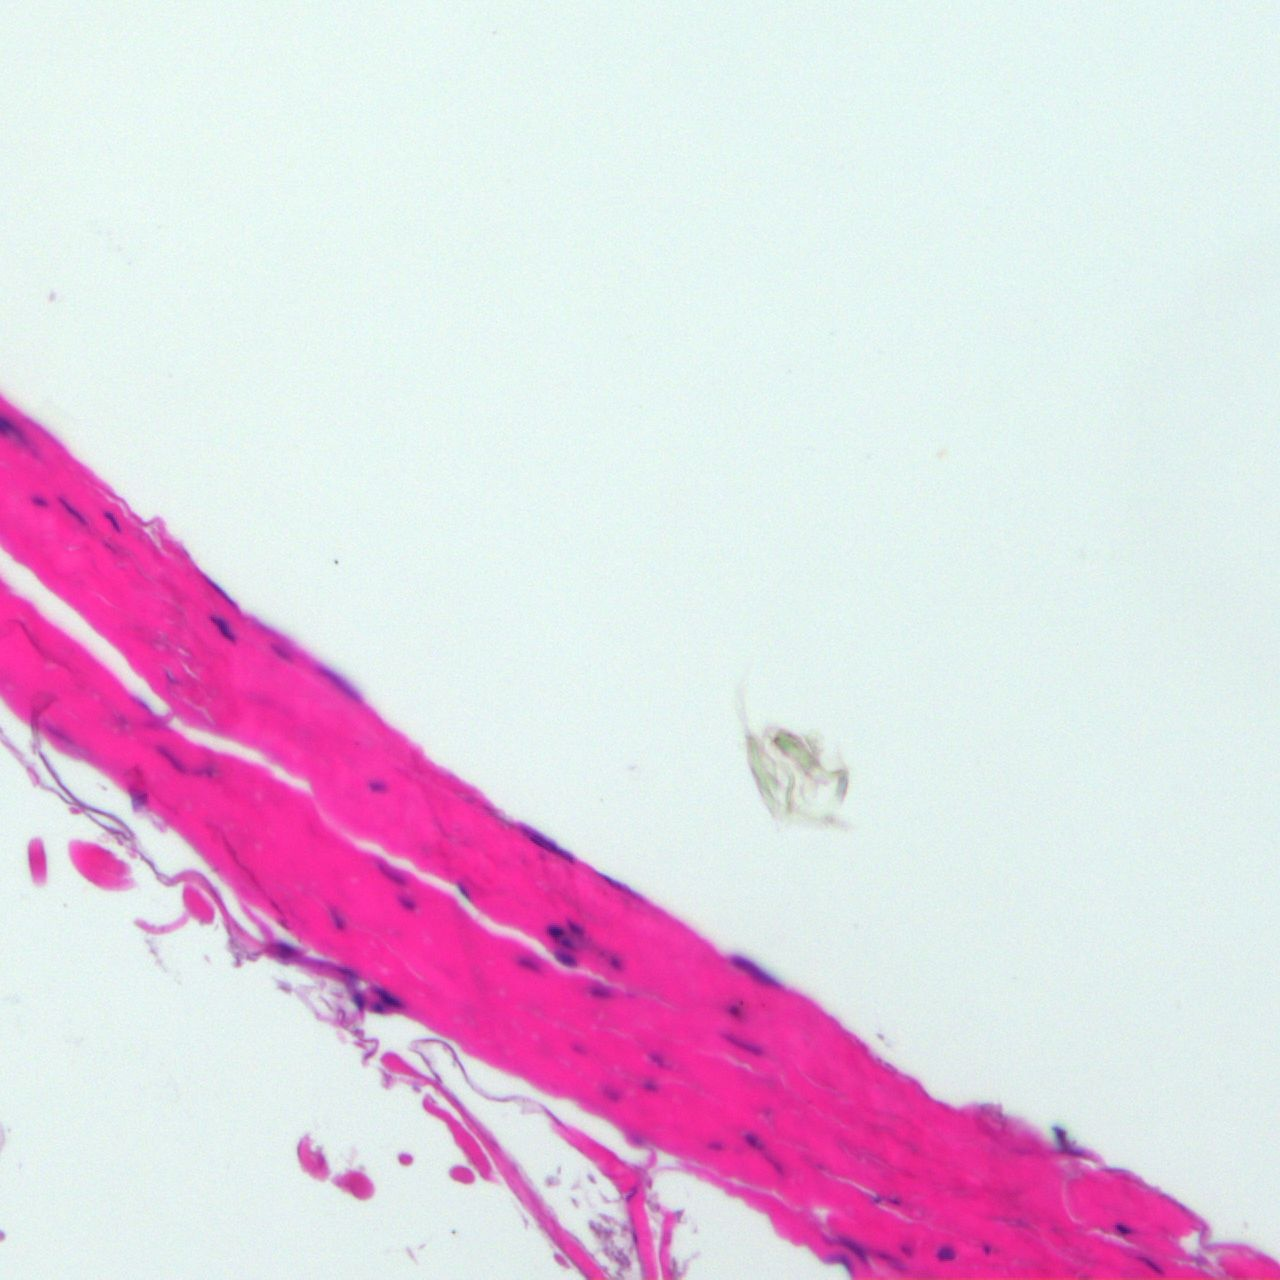nucleus-HE: (512, 819, 576, 867), (726, 949, 782, 994), (312, 658, 365, 704), (831, 1230, 874, 1264), (719, 1028, 764, 1060), (155, 745, 193, 779), (824, 1247, 863, 1280), (1131, 1248, 1167, 1276), (207, 611, 238, 644), (205, 576, 234, 607), (376, 860, 407, 888), (373, 983, 403, 1012), (56, 495, 84, 524), (873, 1246, 907, 1269), (553, 947, 578, 971), (561, 912, 585, 935), (583, 985, 622, 998), (740, 1129, 762, 1151), (726, 1000, 745, 1024), (101, 510, 122, 531), (328, 906, 343, 930), (277, 942, 297, 960), (458, 881, 474, 904), (649, 1050, 667, 1069), (640, 1077, 660, 1094), (935, 1245, 956, 1260), (366, 779, 387, 794), (352, 989, 365, 1010), (400, 896, 416, 911), (560, 937, 578, 951), (518, 956, 538, 968), (610, 954, 624, 971), (546, 924, 563, 937), (1114, 1223, 1130, 1235), (30, 495, 47, 505), (372, 1003, 384, 1012)
